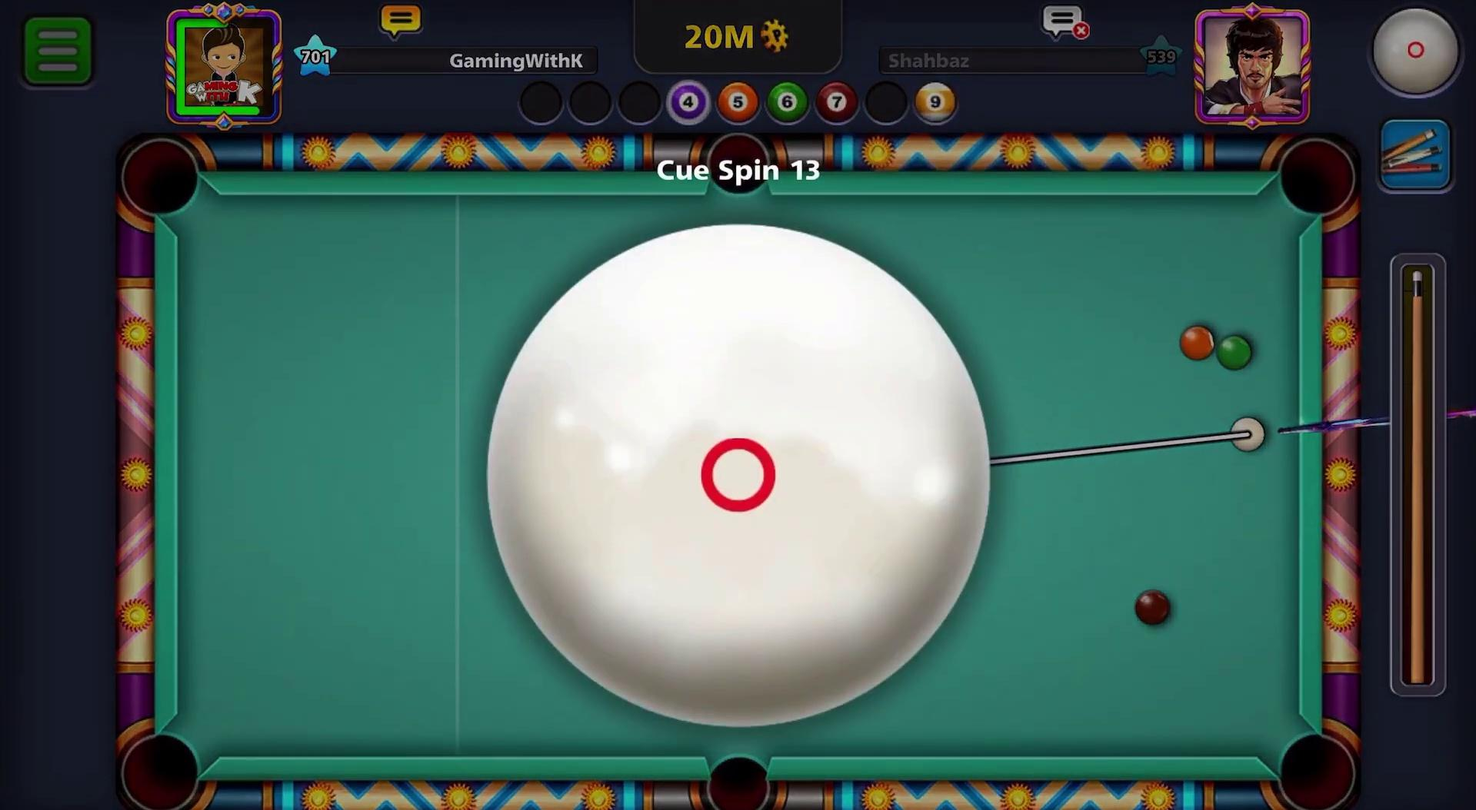Ball: (1209, 328, 1263, 374), (1174, 320, 1221, 365), (1132, 583, 1176, 629)
Force: (1389, 257, 1451, 703)
Guideline: (991, 417, 1268, 466)
Hole: (107, 129, 215, 230), (109, 715, 212, 809), (1267, 712, 1363, 808), (1269, 131, 1364, 228), (689, 124, 789, 212), (680, 742, 791, 809)
Play_Area: (176, 194, 1315, 761)
Spin: (479, 221, 1010, 737), (1341, 0, 1474, 115)
White: (1227, 409, 1274, 456)
